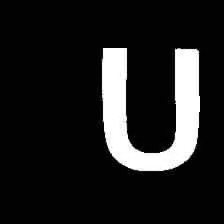LTR_U: (92, 35, 205, 180)
